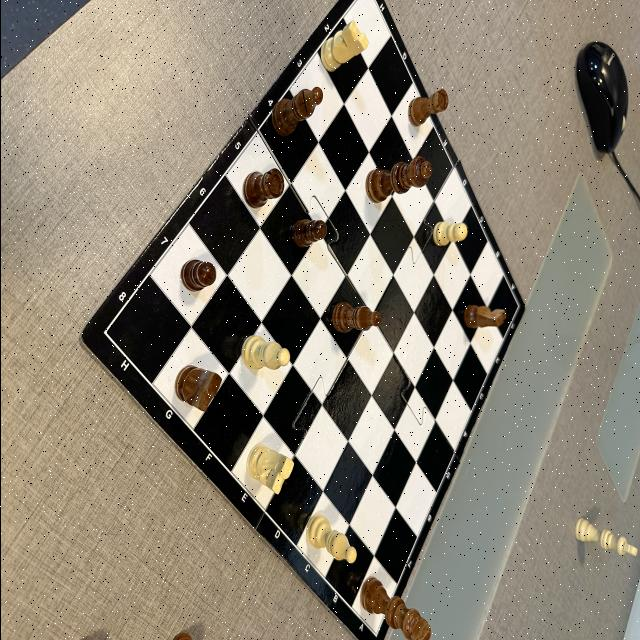Black-Bishop: (270, 86, 322, 138), (332, 302, 381, 334)
Black-King: (359, 576, 431, 640)
Black-Knight: (174, 364, 222, 412)
Black-Pawn: (180, 259, 216, 293), (292, 218, 326, 248)
Black-Queen: (364, 156, 432, 204)
Black-Rook: (242, 168, 284, 210), (407, 89, 448, 128)
White-Bishop: (305, 513, 356, 563), (240, 336, 290, 370)
White-King: (574, 518, 638, 558)
White-Knight: (320, 20, 368, 72), (245, 444, 293, 494), (462, 304, 506, 328)
White-Pawn: (432, 221, 466, 247)
